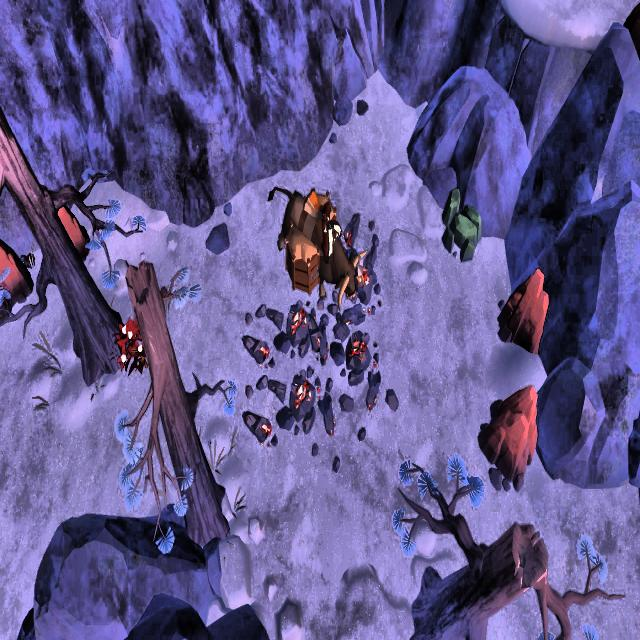fiber_t5: (116, 316, 148, 372)
rock_t3: (439, 188, 483, 262)
rock_t5: (475, 380, 537, 488), (499, 259, 548, 355), (52, 202, 92, 270), (0, 235, 35, 312)
